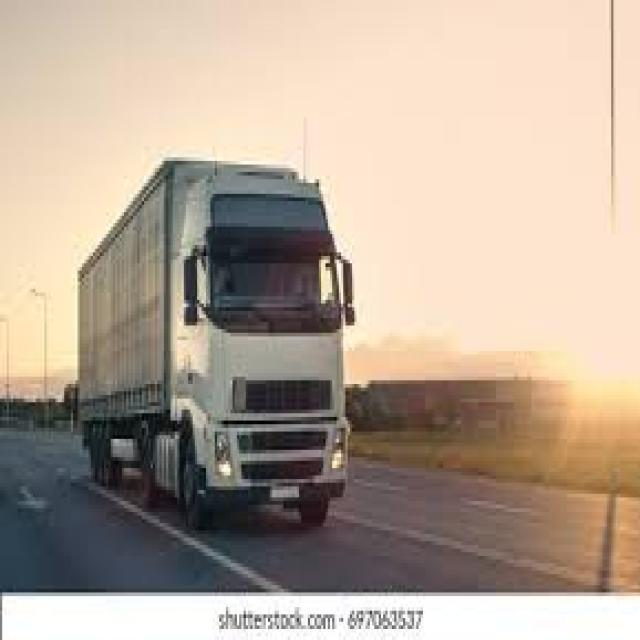covered: (73, 150, 354, 530)
